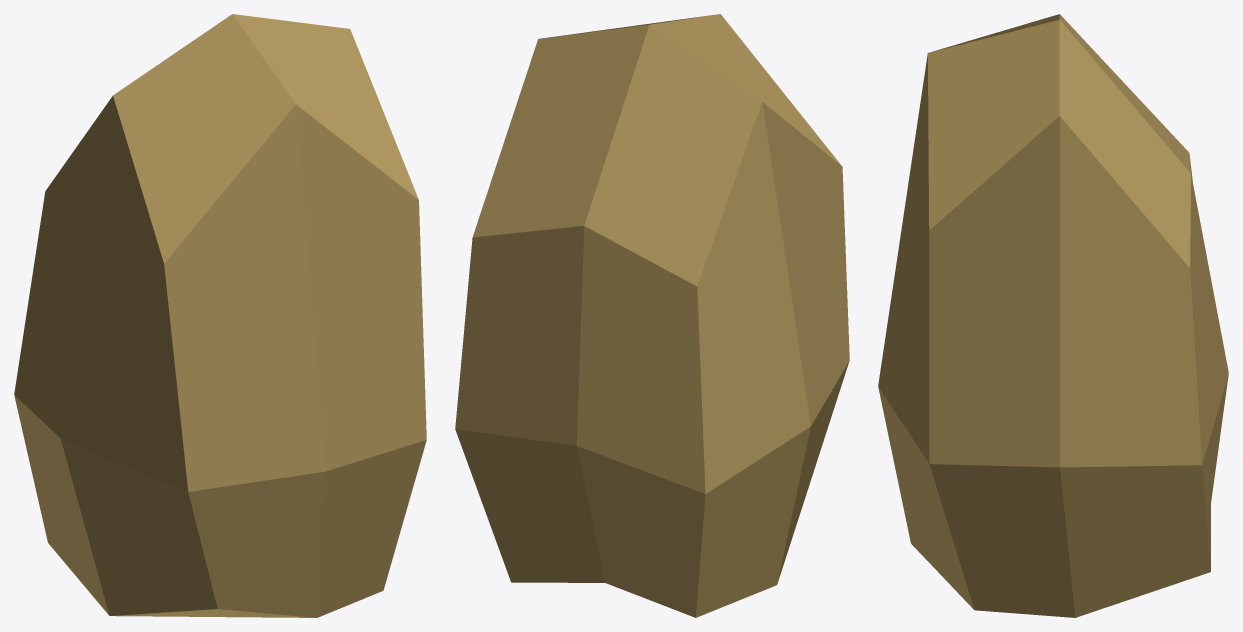
The model's file is a_z3_rock_l.fbx.
3 views of the same model, side by side, from view 1: azimuth 30°, elevation 25°; view 2: azimuth 150°, elevation 25°; view 3: azimuth 270°, elevation 25° (orthographic). The views are drawn at different scales.
Parts seen in each view (by area): view 1: a_z3_rock_l; view 2: a_z3_rock_l; view 3: a_z3_rock_l.
Boxes of the visible parts, x1=… form: a_z3_rock_l: x1=14, y1=14, x2=426, y2=617; a_z3_rock_l: x1=455, y1=14, x2=849, y2=617; a_z3_rock_l: x1=878, y1=14, x2=1228, y2=617.
Bounding box in the file's own units: 230 × 370 × 216.
